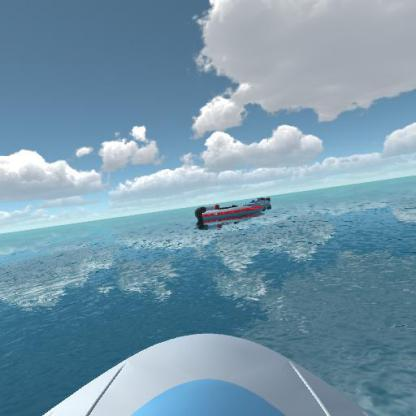usv1: (241, 195, 276, 211)
usv3: (192, 201, 268, 232)
